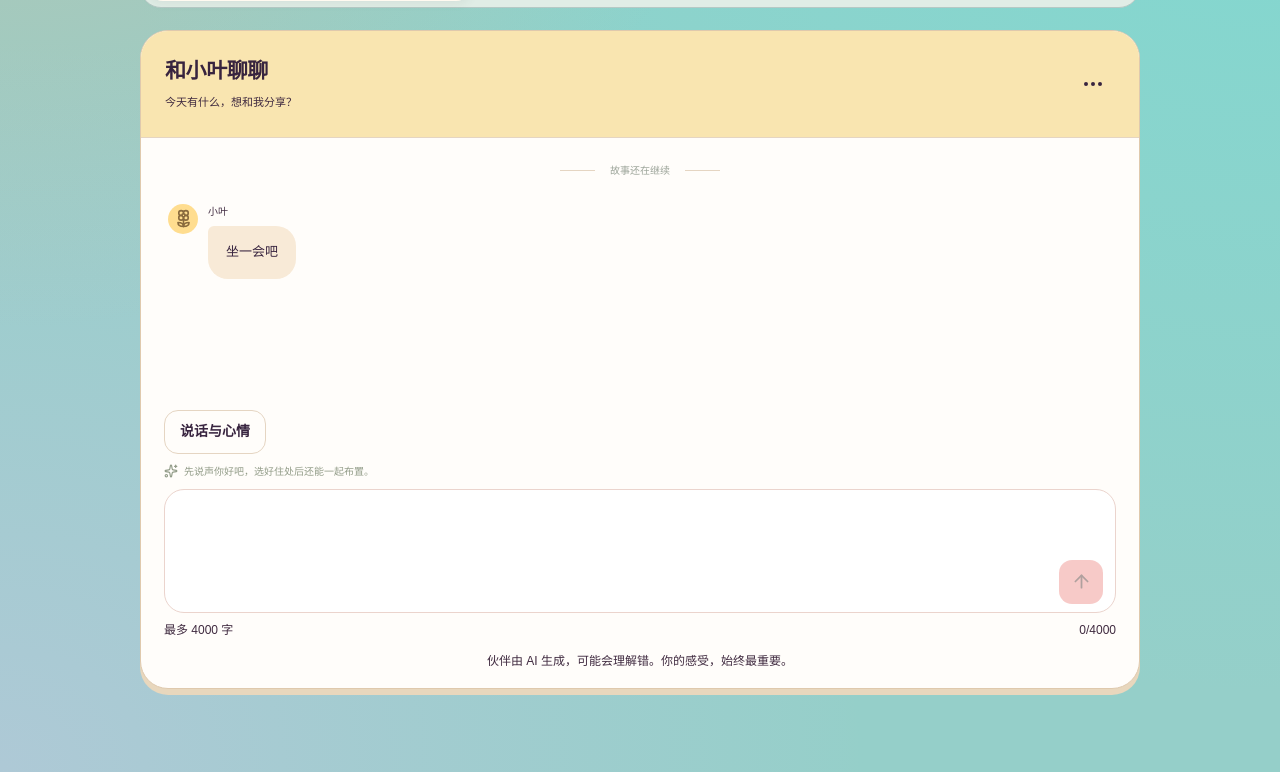
Test: preserves a draft when the server rejects a message
This screenshot has width=1280, height=772.
(page scrolled)
Type "保留草稿" into the text box named "想对伙伴说的话" at (640, 528), box [177, 495, 1103, 560]
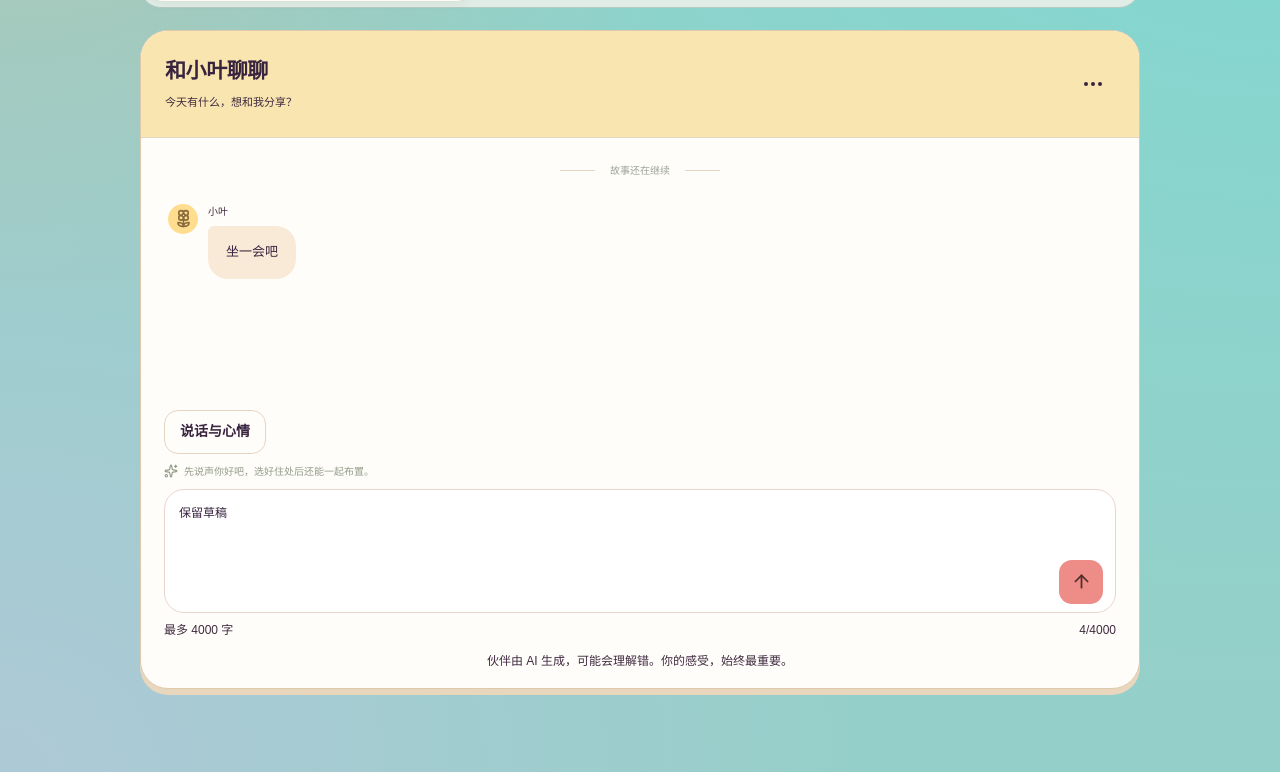
Click the button named "发送消息" at (1081, 582), box [1059, 560, 1103, 604]
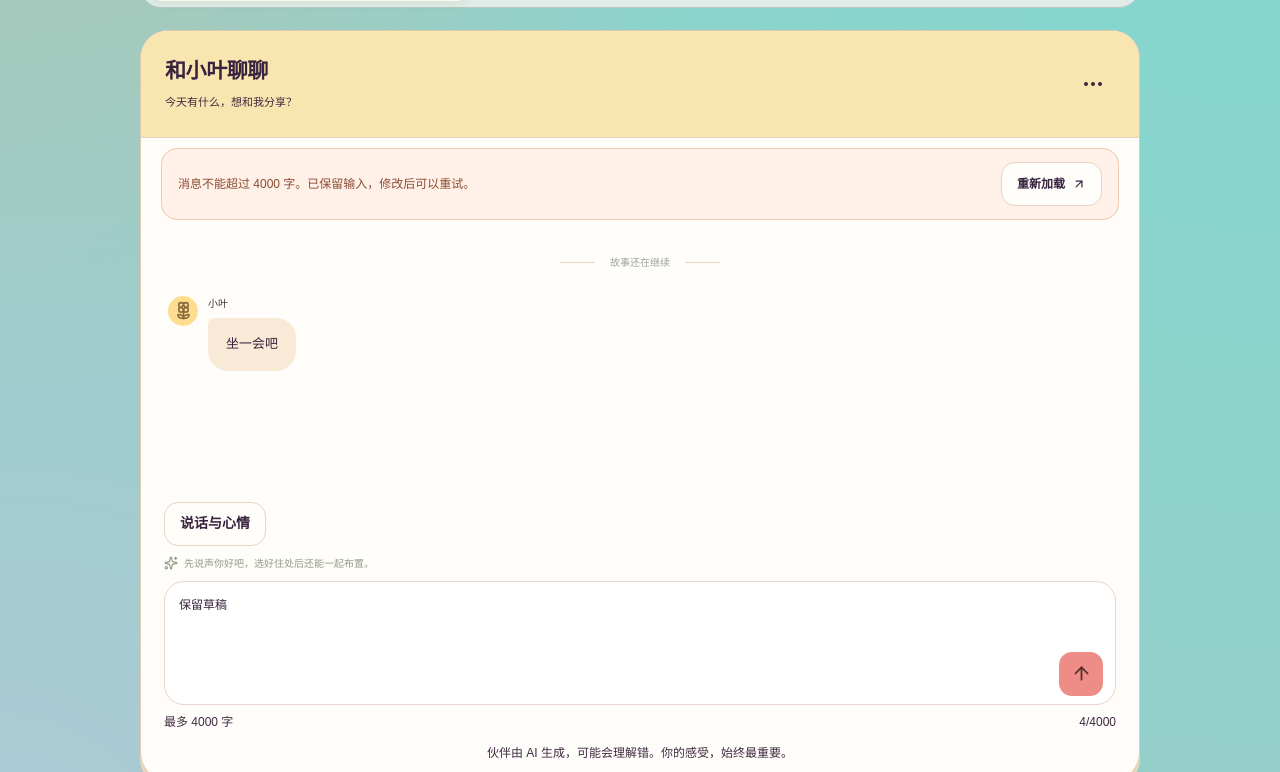
Expected: the message shows "消息不能超过 4000 字", [178, 177, 475, 191]
